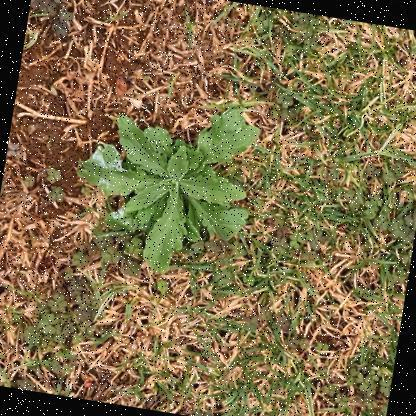Weeds: (64, 85, 264, 287)
